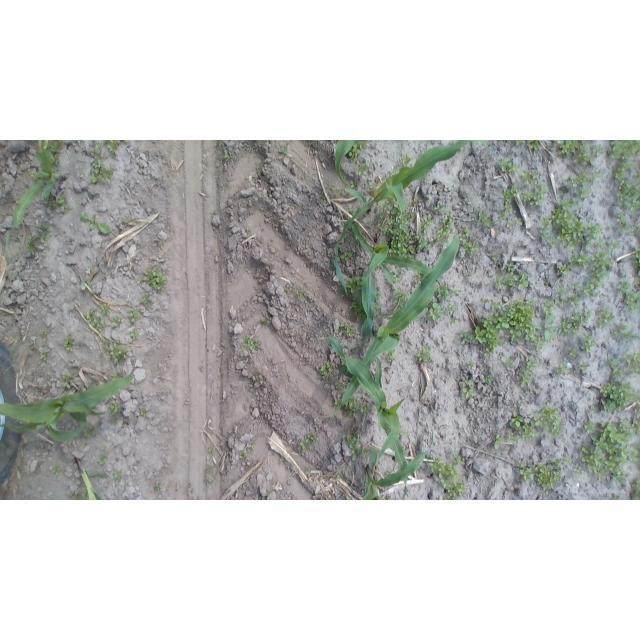Maize: (324, 235, 460, 416), (335, 141, 489, 296), (320, 337, 408, 497), (350, 223, 447, 345), (1, 369, 136, 441), (5, 140, 66, 256), (362, 450, 426, 500), (73, 306, 142, 351), (71, 264, 130, 312), (334, 141, 362, 188)
Weeds: (580, 419, 640, 485), (377, 199, 432, 257), (486, 300, 535, 352), (570, 253, 614, 296), (522, 407, 563, 441), (549, 207, 588, 242), (534, 458, 571, 490), (600, 380, 640, 405), (91, 141, 111, 185), (559, 311, 593, 334), (100, 338, 129, 364), (617, 279, 639, 311), (81, 213, 112, 234), (533, 315, 560, 339), (499, 185, 517, 220), (141, 268, 168, 290), (430, 461, 459, 481), (525, 181, 548, 205), (611, 140, 640, 159), (620, 183, 640, 210), (436, 213, 454, 240), (460, 326, 484, 345), (444, 482, 466, 500), (346, 436, 362, 460), (617, 161, 635, 181), (556, 141, 580, 156), (500, 159, 520, 177), (300, 433, 318, 452), (243, 335, 262, 353), (34, 225, 52, 244), (85, 310, 104, 327), (626, 353, 640, 375), (577, 140, 591, 162), (597, 311, 614, 329), (459, 239, 479, 254), (541, 300, 558, 317), (540, 218, 553, 239), (421, 214, 436, 232), (516, 141, 540, 152), (560, 196, 580, 209), (513, 274, 529, 290), (352, 297, 368, 313), (521, 170, 537, 186), (462, 381, 477, 398), (582, 337, 599, 352), (589, 223, 604, 240), (621, 219, 639, 233), (569, 173, 588, 186), (346, 277, 362, 292), (419, 347, 434, 363), (107, 315, 122, 331), (561, 294, 580, 306), (478, 209, 493, 224), (348, 142, 364, 156), (439, 284, 452, 301), (429, 304, 443, 319), (452, 448, 465, 464), (512, 410, 525, 426), (632, 408, 640, 434), (24, 239, 36, 256), (583, 420, 596, 435), (320, 363, 332, 379), (63, 335, 75, 351), (521, 467, 534, 481), (601, 400, 615, 413), (114, 469, 127, 483), (127, 310, 141, 323), (600, 358, 616, 369), (630, 482, 640, 499), (108, 141, 121, 154), (62, 375, 74, 389), (44, 196, 65, 204), (397, 291, 409, 304), (332, 379, 344, 392), (526, 358, 538, 371), (557, 262, 569, 275), (522, 374, 533, 388), (534, 337, 545, 351), (625, 329, 640, 339), (346, 401, 357, 414), (510, 216, 523, 227), (594, 144, 605, 157), (615, 323, 625, 337), (509, 432, 518, 447), (492, 434, 501, 449), (344, 324, 354, 337), (400, 156, 413, 166), (357, 400, 367, 413), (110, 400, 120, 413), (607, 240, 621, 249), (340, 250, 352, 260), (388, 349, 396, 364), (129, 330, 142, 339), (490, 251, 501, 261), (101, 305, 112, 315), (595, 239, 606, 249), (393, 271, 401, 284), (460, 229, 471, 238), (358, 163, 370, 171), (554, 364, 566, 372), (618, 212, 626, 224), (334, 187, 343, 197), (223, 149, 232, 159), (580, 361, 590, 370), (205, 475, 214, 485), (496, 275, 504, 286), (112, 373, 123, 381), (614, 369, 623, 378), (568, 348, 577, 357), (401, 429, 411, 437), (61, 204, 71, 212), (579, 188, 589, 196), (204, 467, 216, 473), (208, 445, 216, 454), (505, 272, 515, 279), (508, 262, 516, 270), (416, 272, 423, 281), (156, 482, 163, 491), (40, 331, 49, 338), (41, 353, 48, 362), (141, 296, 148, 305), (566, 242, 575, 249), (485, 376, 495, 382), (635, 248, 640, 260), (375, 292, 382, 300), (466, 362, 474, 369), (98, 458, 106, 465), (53, 466, 60, 474), (350, 179, 355, 190), (333, 397, 339, 406), (517, 460, 526, 466), (507, 280, 516, 286), (281, 145, 288, 152), (263, 319, 270, 326), (84, 429, 91, 436), (448, 307, 456, 313), (451, 316, 457, 324), (557, 288, 565, 294), (138, 410, 146, 416), (595, 172, 603, 177), (295, 292, 302, 297), (505, 360, 512, 365), (336, 328, 341, 333), (244, 451, 249, 456), (245, 228, 251, 232), (280, 456, 285, 460), (254, 375, 259, 379), (336, 474, 340, 479)
